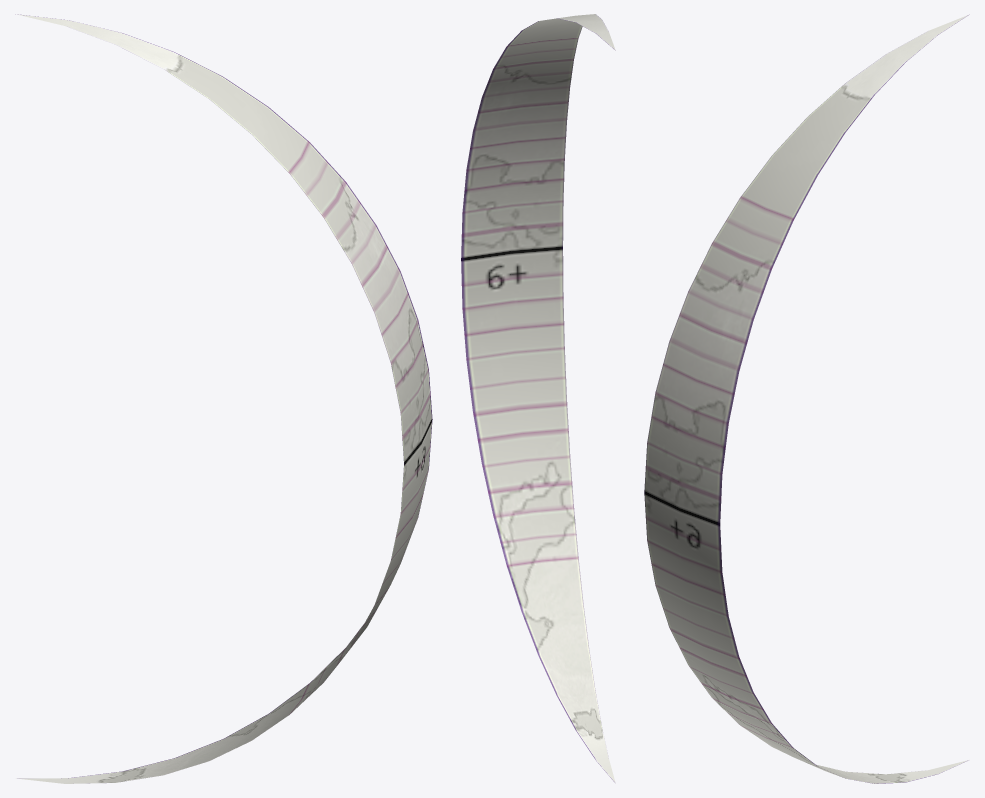
The model's file is GMTP9.obj.
The picture shows the model from 3 angles, left to right: view 1: azimuth 30°, elevation 25°; view 2: azimuth 150°, elevation 25°; view 3: azimuth 270°, elevation 25°; orthographic projection. The views are drawn at different scales.
Visible parts, largest first — view 1: GMTP09; view 2: GMTP09; view 3: GMTP09.
Boxes of the visible parts, <box> form: GMTP09: <box>15,14,432,783</box>; GMTP09: <box>461,14,615,783</box>; GMTP09: <box>644,14,969,783</box>.
Size of the model in its own units: 203 by 512 by 203.
1 material, 1 textured.
